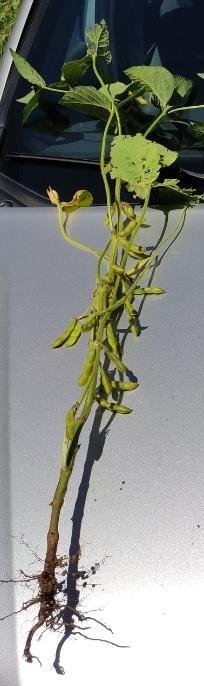soja: (43, 319, 78, 351), (78, 344, 99, 384), (104, 316, 126, 354), (91, 398, 131, 417), (123, 305, 145, 339), (62, 404, 82, 440), (130, 284, 165, 302), (117, 237, 148, 256), (112, 379, 142, 395), (69, 322, 86, 350), (102, 200, 119, 228), (100, 367, 115, 398), (115, 220, 139, 239), (129, 88, 151, 105), (121, 198, 136, 221), (111, 264, 127, 278)
